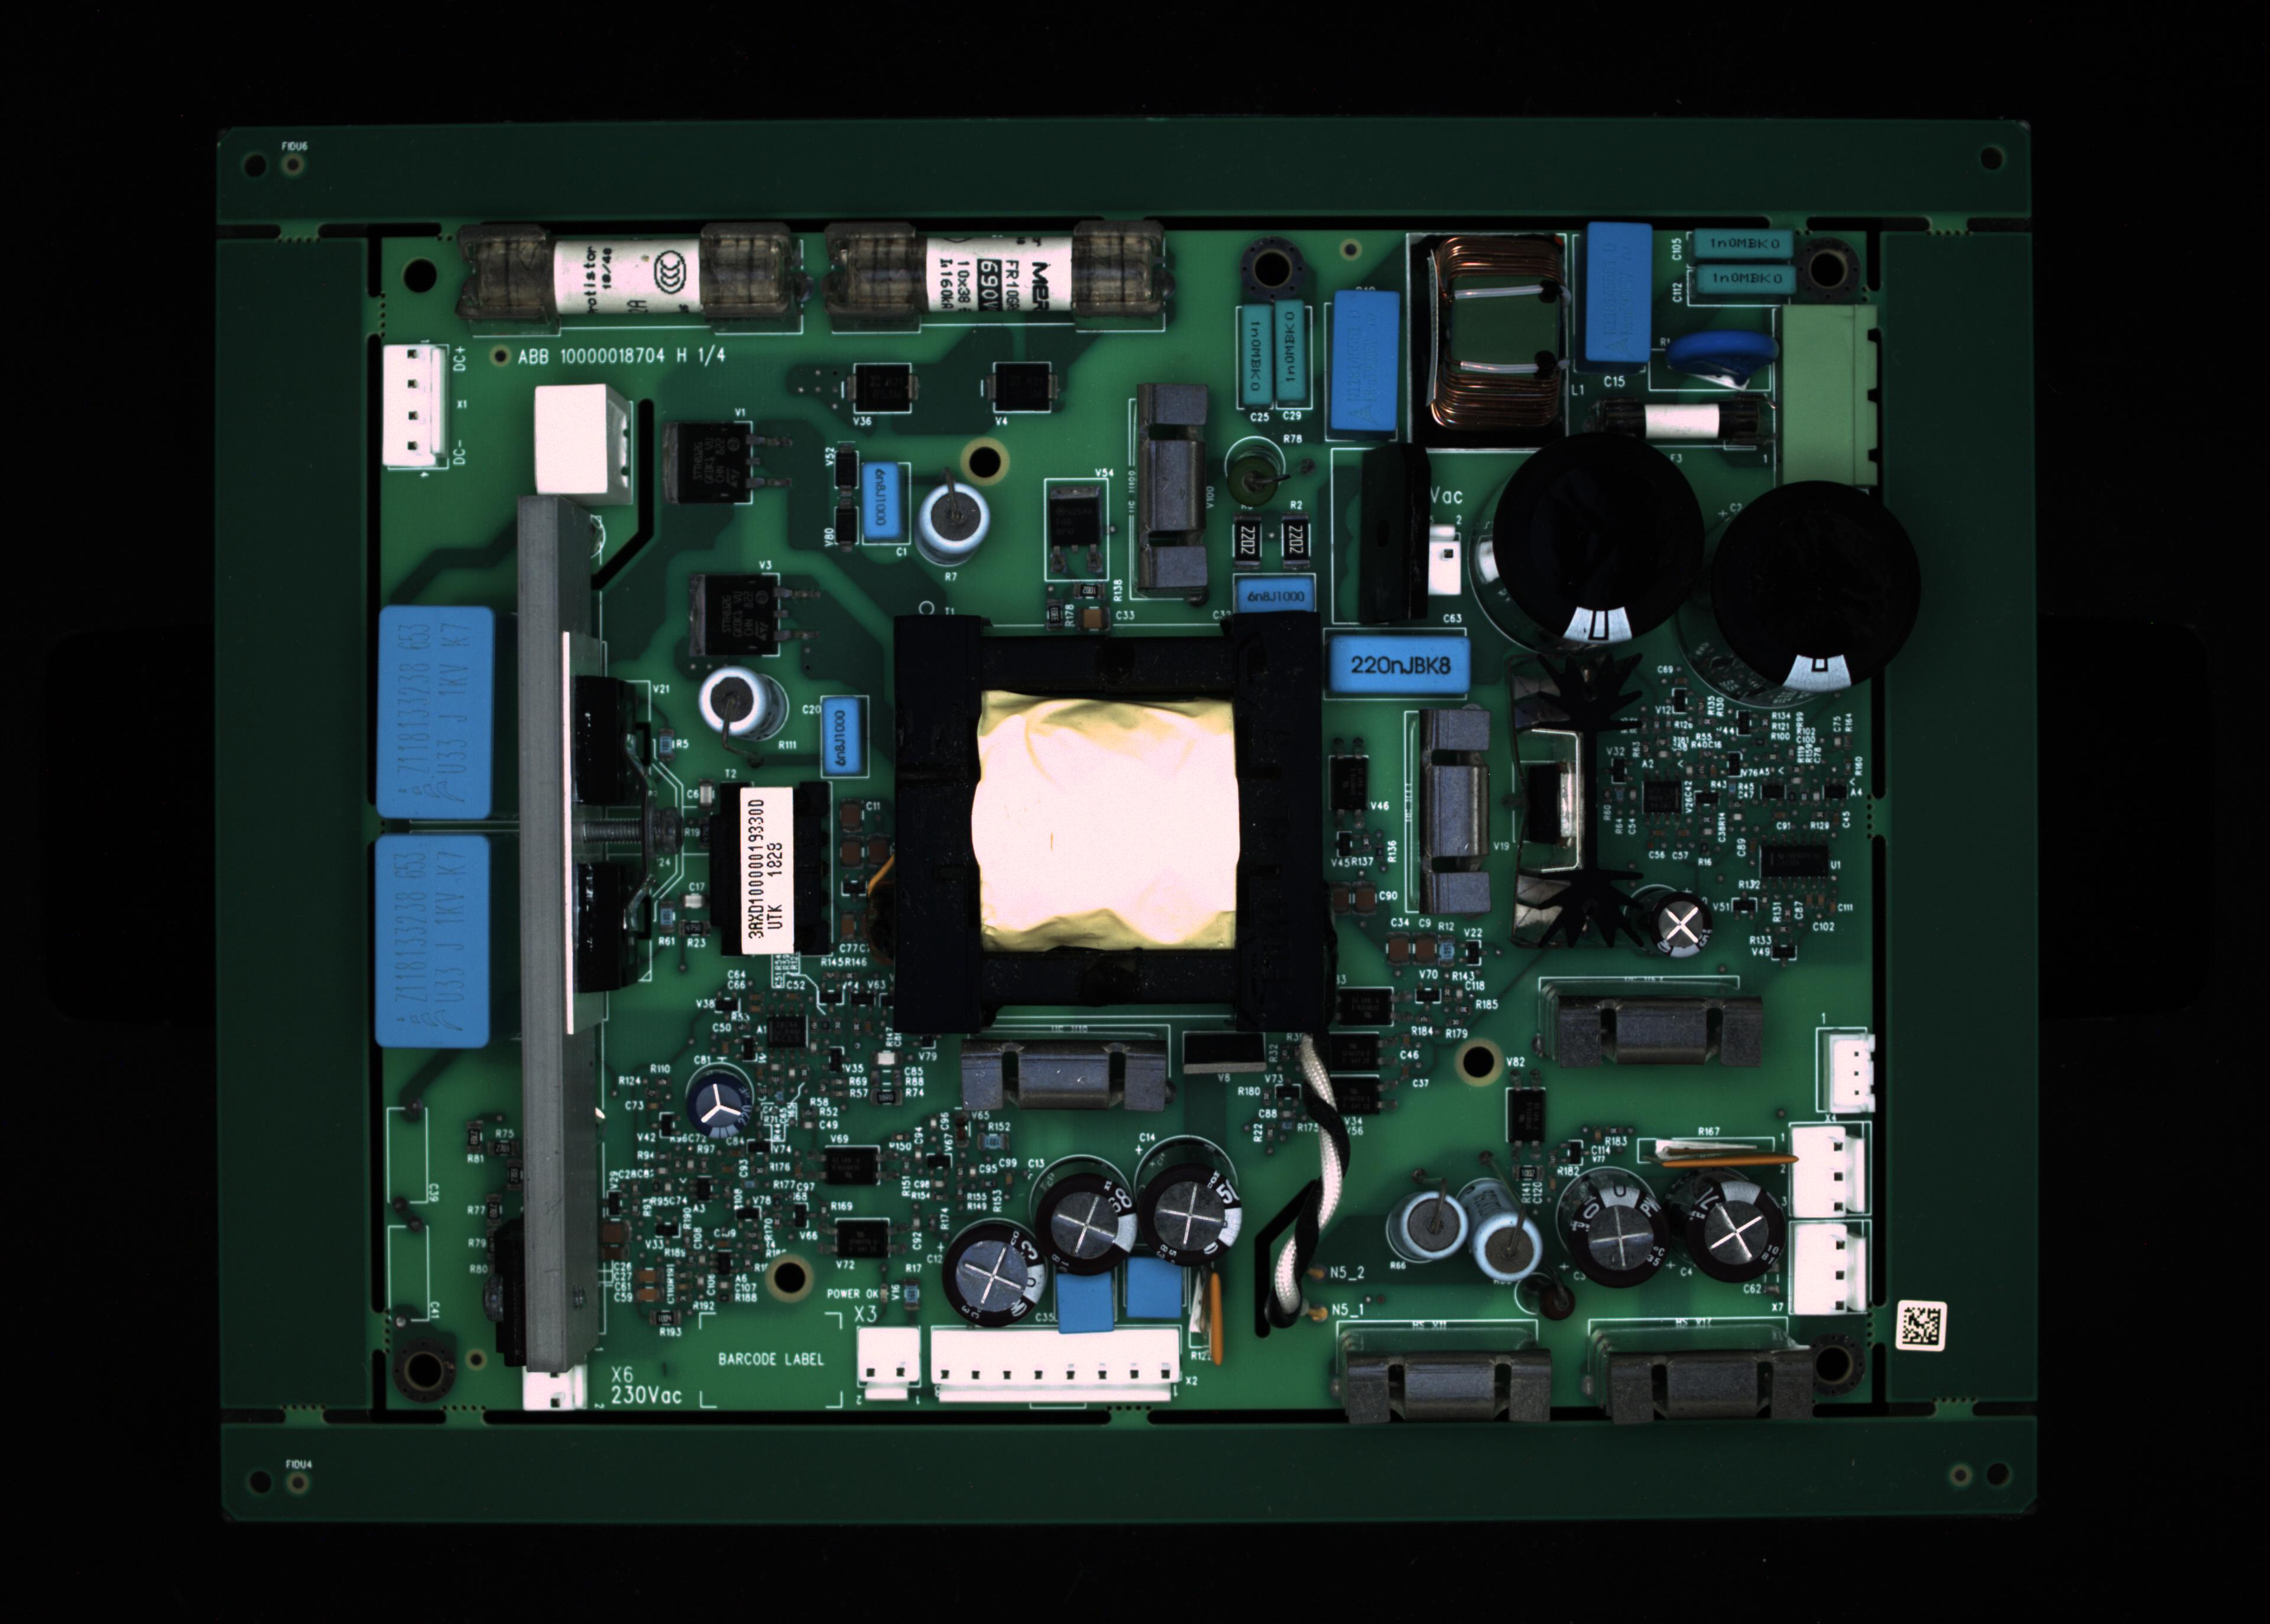10_p: (1648, 346, 1772, 394)
11_q: (1778, 304, 1880, 483)
12_r: (1591, 387, 1776, 455)
13_s: (385, 346, 443, 469)
14_t: (538, 387, 629, 506)
15_e: (858, 460, 900, 534)
16_k: (913, 485, 990, 569)
17_u: (1127, 385, 1206, 591)
18_v: (1234, 580, 1317, 612)
19_w: (1326, 636, 1470, 689)
1_a: (459, 216, 807, 329)
20_f: (1426, 526, 1463, 594)
21_g: (1491, 431, 1707, 647)
22_g: (1709, 480, 1920, 692)
23_h: (378, 606, 494, 817)
24_h: (380, 835, 491, 1049)
25_f: (524, 1366, 587, 1411)
26_f: (858, 1329, 921, 1403)
27_x: (934, 1327, 1176, 1404)
28_i: (1138, 1160, 1241, 1265)
29_i: (1034, 1172, 1134, 1274)
2_a: (828, 216, 1175, 329)
30_i: (941, 1216, 1050, 1329)
31_j: (1057, 1272, 1115, 1332)
32_j: (1124, 1264, 1185, 1322)
33_e: (823, 692, 862, 772)
34_k: (1382, 1185, 1466, 1269)
35_k: (1458, 1176, 1542, 1285)
36_i: (1561, 1183, 1672, 1283)
37_i: (1683, 1181, 1785, 1285)
38_l: (1333, 1348, 1560, 1424)
39_l: (1582, 1353, 1823, 1418)
3_b: (1241, 304, 1270, 406)
40_l: (1539, 977, 1771, 1069)
41_y: (1417, 703, 1491, 912)
42_z: (1827, 1033, 1874, 1114)
43_m: (1793, 1127, 1867, 1216)
44_m: (1795, 1222, 1866, 1313)
45_i: (684, 1069, 756, 1142)
46_n: (1338, 988, 1393, 1028)
47_n: (811, 1142, 899, 1192)
48_n: (818, 1214, 911, 1265)
49_aa: (761, 1011, 805, 1051)
4_b: (1280, 299, 1308, 402)
50_n: (1321, 1030, 1379, 1067)
51_n: (1331, 1076, 1386, 1116)
52_ab: (1329, 754, 1368, 812)
53_ac: (1656, 1130, 1790, 1165)
54_ad: (1208, 1269, 1229, 1367)
55_l: (958, 1033, 1175, 1118)
56_ae: (1176, 1028, 1275, 1077)
57_af: (1521, 652, 1648, 956)
58_i: (1648, 893, 1720, 958)
59_o: (995, 366, 1051, 411)
5_c: (1333, 292, 1400, 429)
60_o: (858, 362, 913, 411)
6_6: (1405, 232, 1572, 452)
7_c: (1582, 221, 1646, 362)
8_d: (1693, 223, 1799, 257)
9_d: (1688, 260, 1799, 290)
